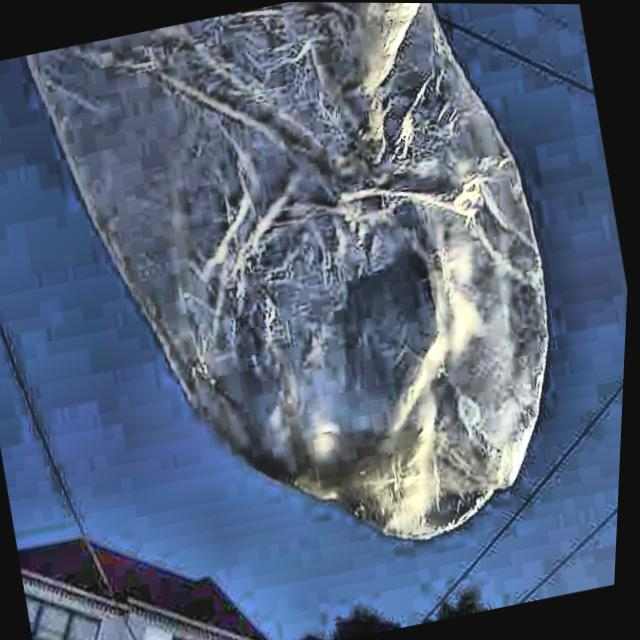Plastic: (0, 0, 622, 614)
